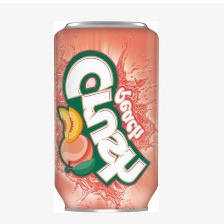can: (50, 18, 162, 215)
